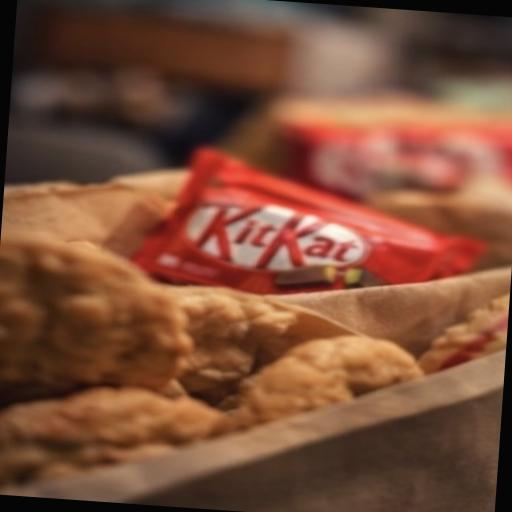kitkat: (100, 98, 512, 383)
